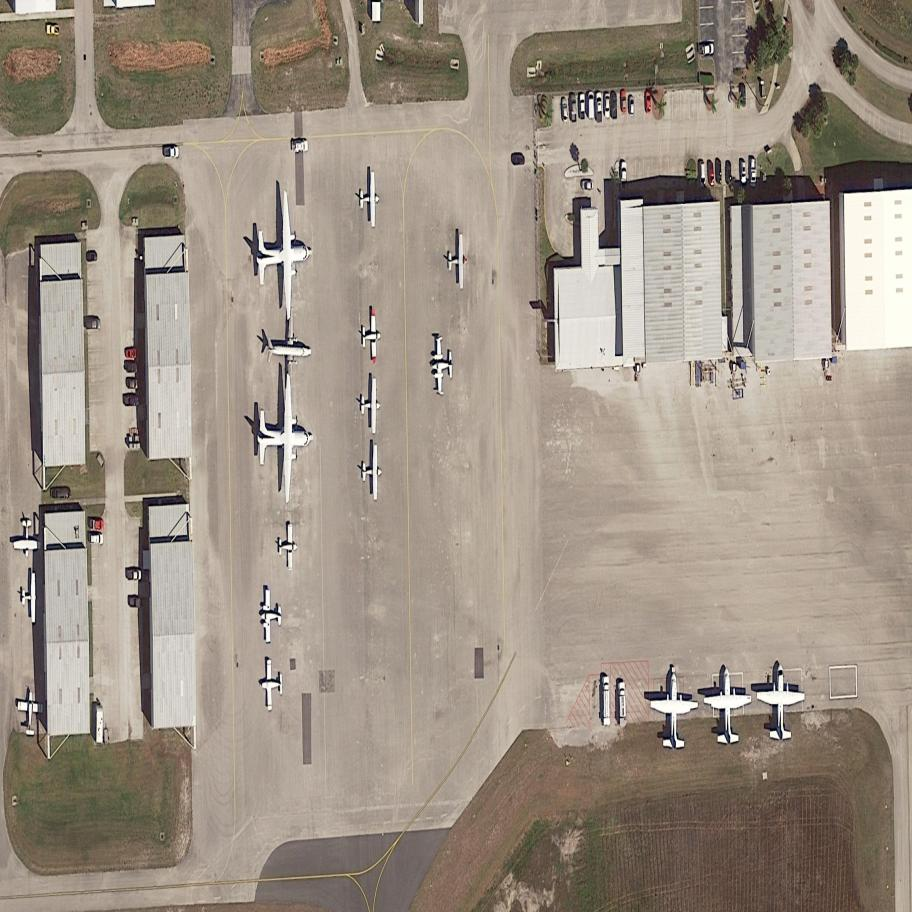large-vehicle: (618, 682, 628, 728), (602, 676, 611, 727)
plane: (254, 188, 317, 327), (255, 368, 313, 503), (265, 304, 315, 398), (649, 668, 701, 751), (703, 665, 753, 744), (755, 662, 805, 740), (16, 687, 45, 738), (431, 335, 454, 397), (361, 443, 383, 502), (446, 233, 468, 290), (359, 170, 380, 229), (361, 307, 382, 366), (261, 658, 283, 713), (361, 375, 381, 435), (261, 588, 282, 644), (14, 520, 42, 558), (21, 571, 41, 624), (278, 523, 298, 572)
small-vehicle: (88, 517, 106, 532), (123, 393, 141, 408), (595, 91, 603, 124), (706, 158, 715, 187), (570, 94, 578, 124), (164, 145, 180, 160), (292, 140, 309, 154), (699, 43, 715, 57), (126, 568, 142, 582), (511, 153, 526, 167), (85, 319, 101, 332), (588, 91, 595, 120), (46, 23, 60, 37), (89, 533, 104, 546), (125, 346, 138, 361), (561, 97, 568, 124), (126, 361, 140, 374), (621, 161, 627, 191), (739, 82, 746, 107), (620, 90, 627, 115), (715, 159, 722, 184), (750, 158, 756, 187), (725, 161, 732, 185), (604, 92, 610, 120), (699, 161, 705, 188), (126, 378, 139, 390), (611, 93, 617, 119), (579, 94, 585, 120), (85, 251, 99, 262), (740, 161, 746, 185), (581, 180, 594, 191), (645, 91, 651, 114), (128, 597, 140, 608), (628, 97, 634, 117)
